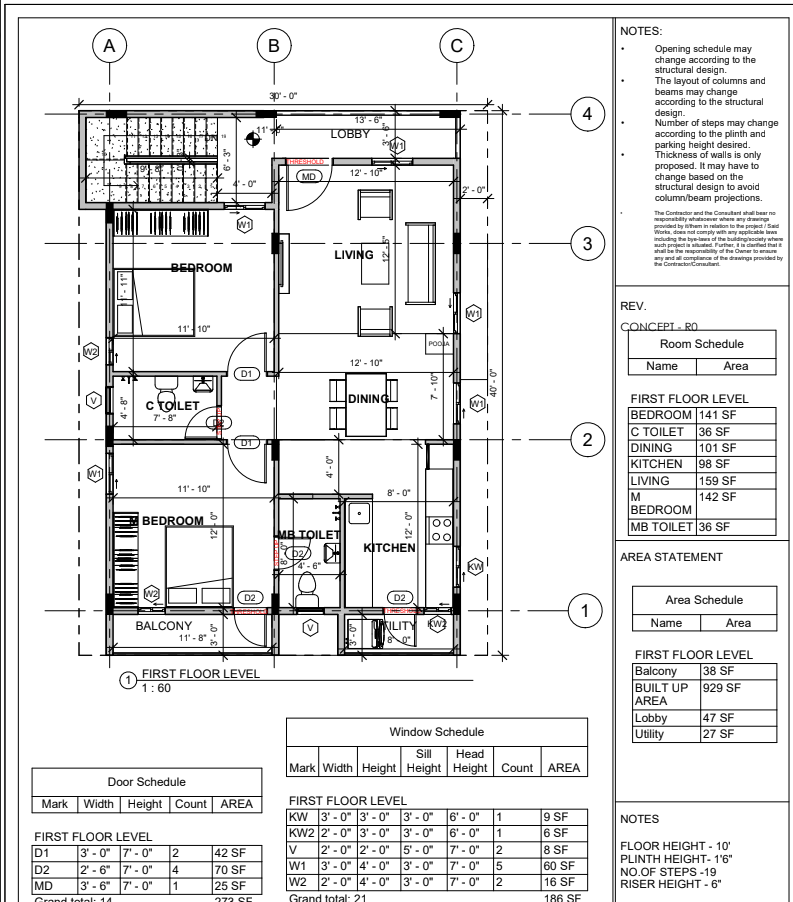door: (284, 160, 335, 213), (224, 439, 271, 485), (223, 332, 271, 376), (232, 610, 271, 652), (276, 533, 313, 575), (381, 609, 421, 647), (182, 405, 221, 441)
